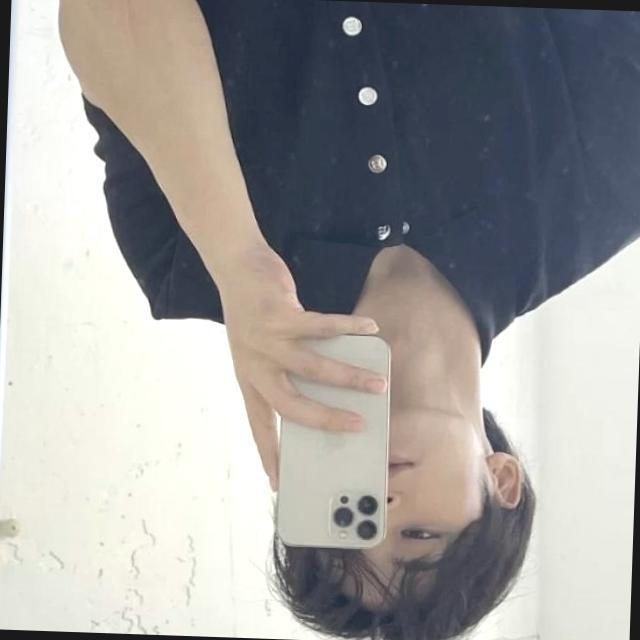lens: (334, 487, 381, 541)
phone: (275, 327, 395, 551)
